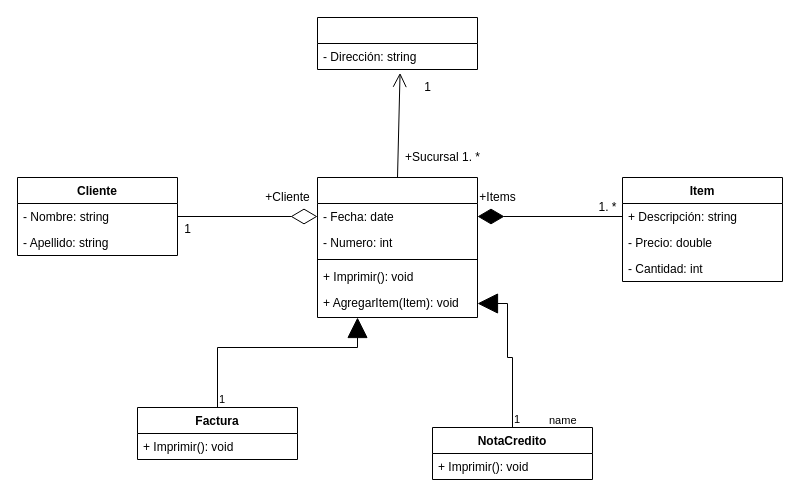
This 800x500 diagram has some shape labels left out. The box of each missing label's shape, as (x1, y1, x2, y2) in pixels:
Documento: (316, 176, 478, 318)
Sucursal: (316, 16, 478, 70)
